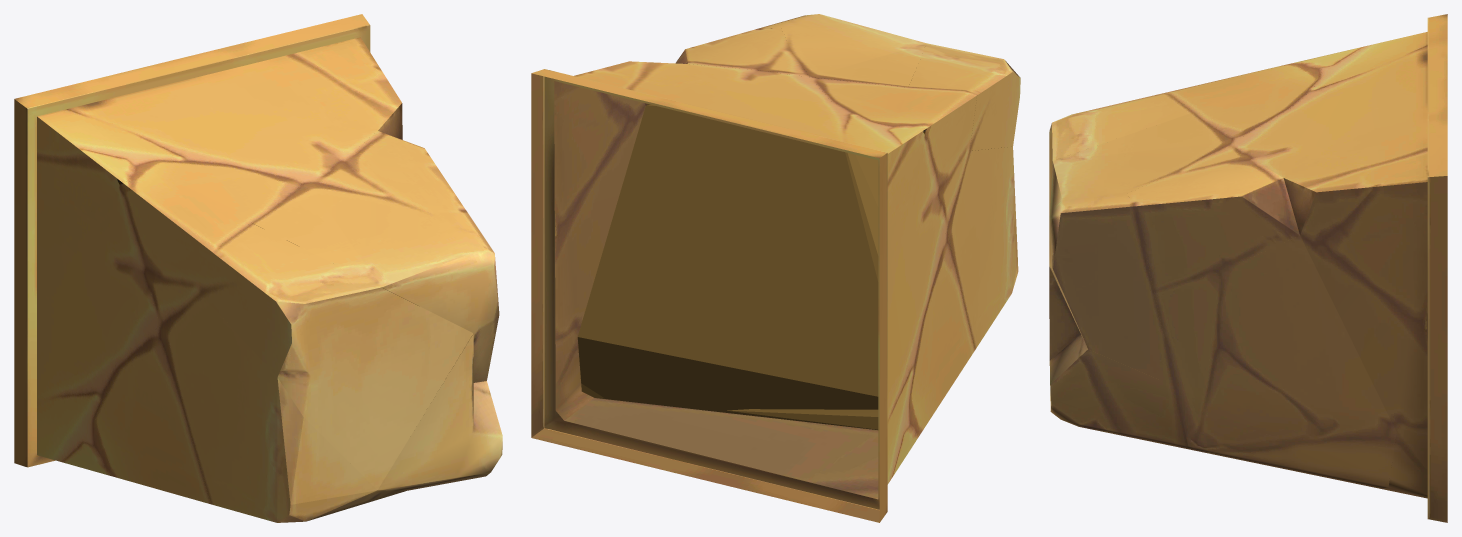
File: trap_032_mound.glb
3 renders of one model, left to right at view 1: azimuth 30°, elevation 25°; view 2: azimuth 150°, elevation 25°; view 3: azimuth 270°, elevation 25°, orthographic. The views are drawn at different scales.
Visible parts, largest first — view 1: polySurface120; view 2: polySurface120; view 3: polySurface120.
Part boxes in pixels (x1,y1,x2,y2): polySurface120: (14, 14, 502, 522); polySurface120: (531, 14, 1020, 522); polySurface120: (1049, 14, 1447, 522).
Size of the model in its own units: 0.8364 by 0.8364 by 0.8705.
1 material, 1 textured.
